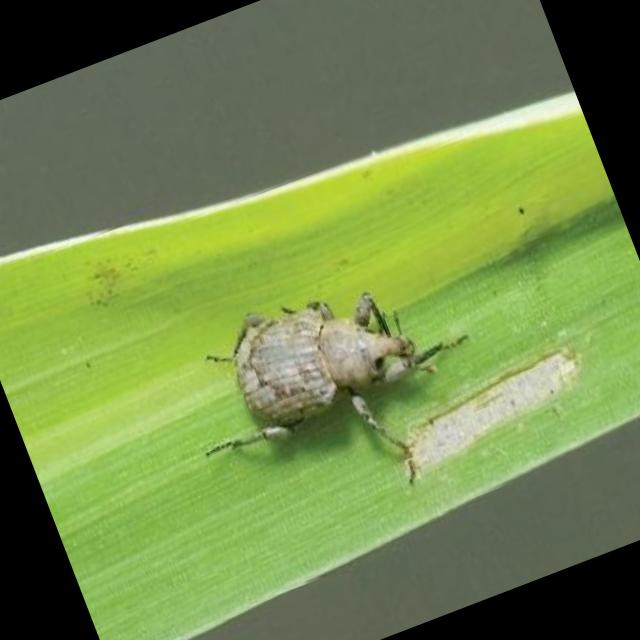rice-bug: (207, 256, 438, 470)
